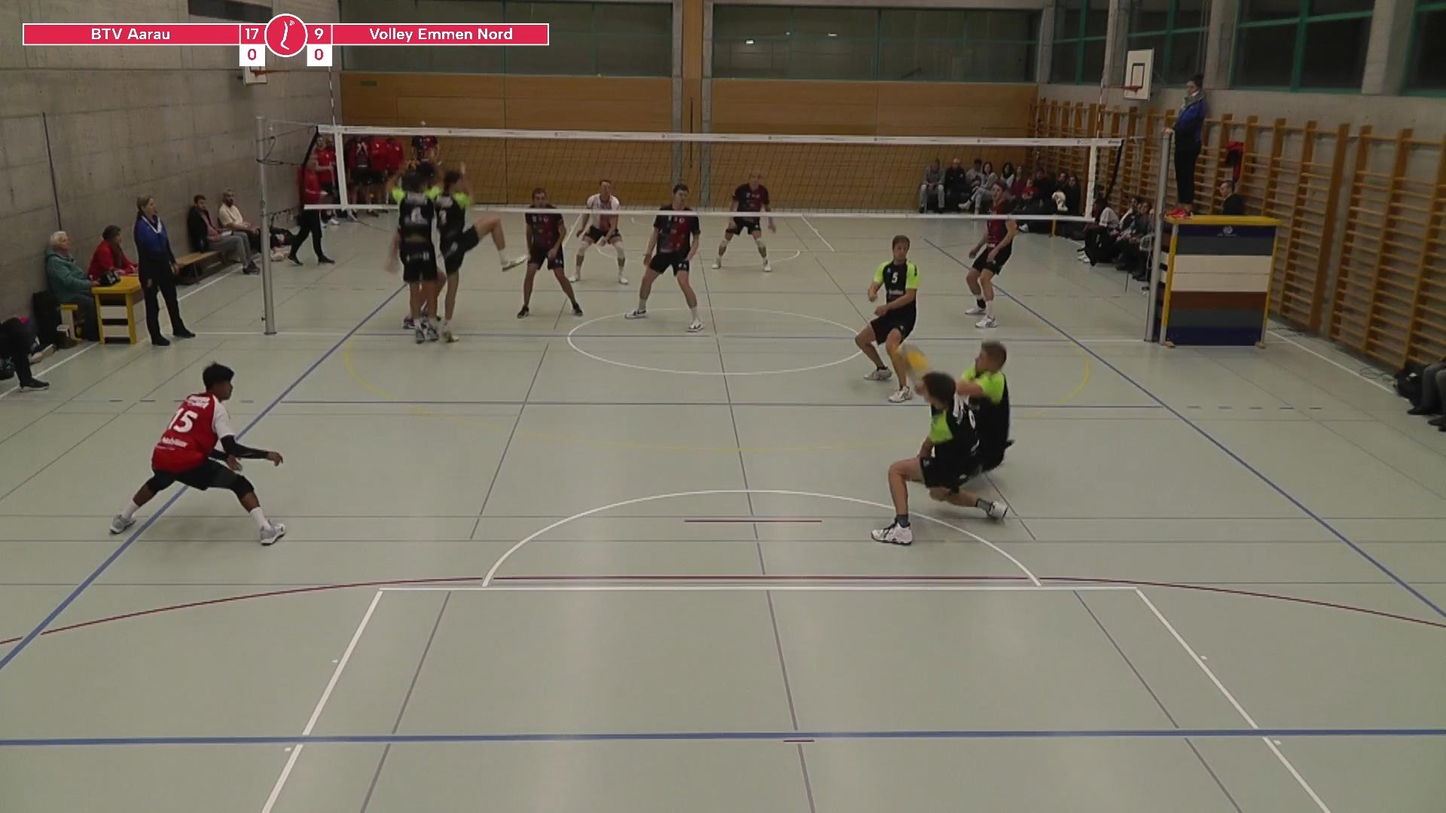difesa: (859, 332, 1044, 551)
